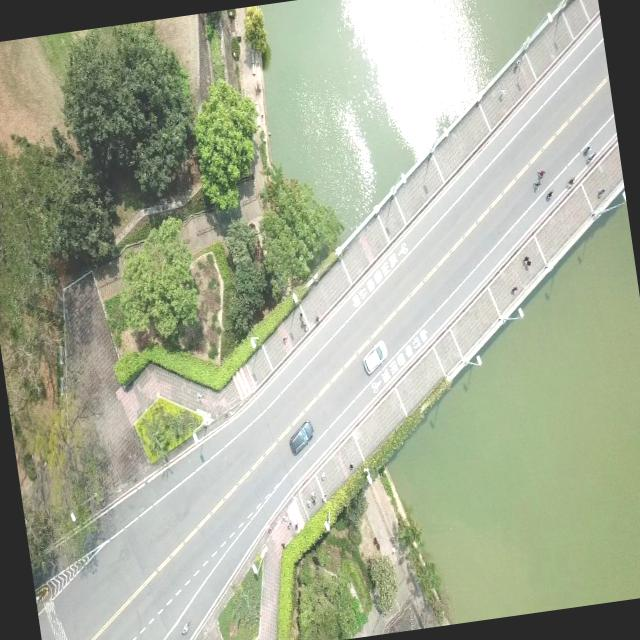bike: (532, 167, 548, 190), (560, 176, 580, 190), (580, 142, 592, 156), (543, 187, 555, 200)
car: (286, 417, 317, 455), (360, 339, 390, 375)
